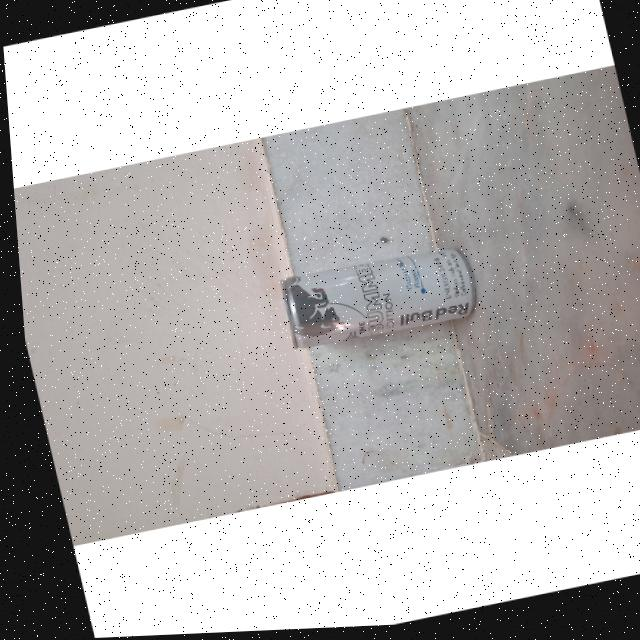Redbull Summer Edition: (262, 239, 486, 358)
